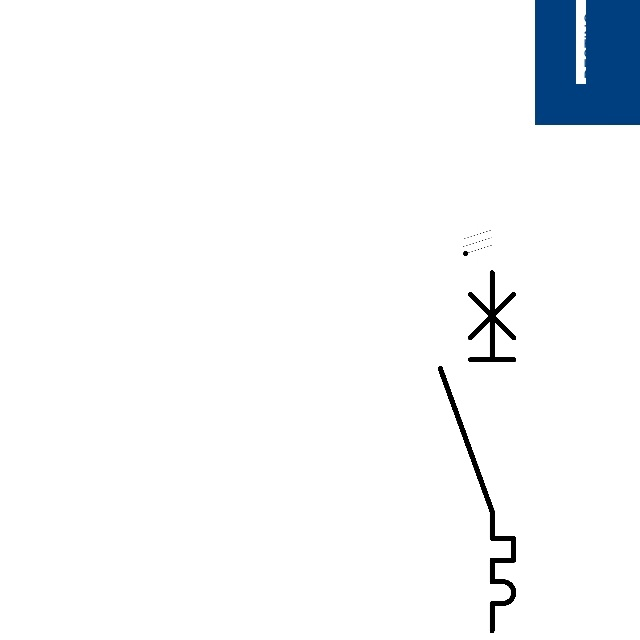interruptor_termomagnetico: (431, 263, 523, 640)
